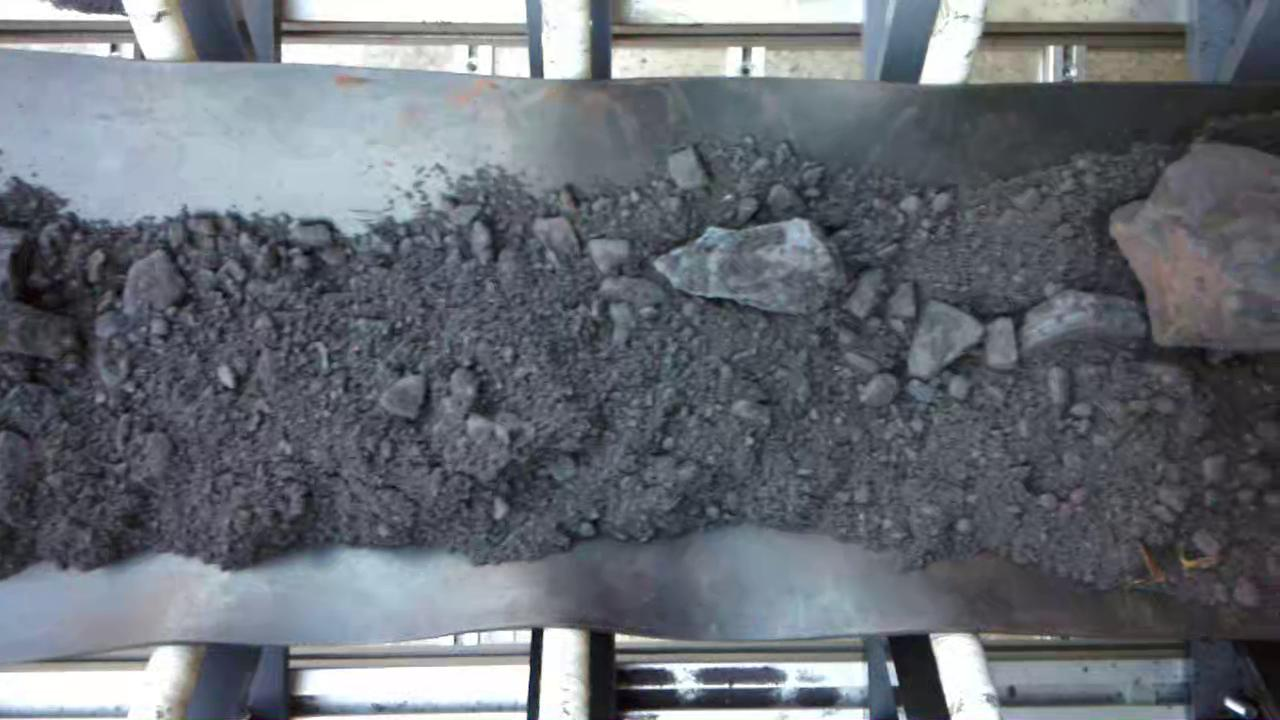conveyor: (3, 92, 1280, 626)
